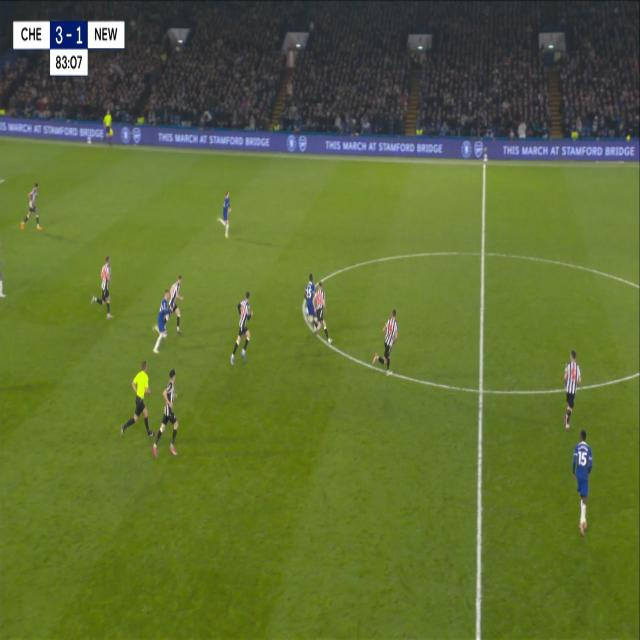Chelsea: (569, 424, 595, 538), (150, 288, 168, 356), (216, 184, 234, 241), (304, 270, 316, 334)
New castle: (370, 304, 402, 380), (228, 286, 256, 370), (88, 254, 119, 329), (156, 364, 180, 454), (560, 346, 584, 433), (19, 180, 43, 234), (315, 282, 332, 348), (169, 272, 184, 338)
Refree: (119, 355, 156, 444)
